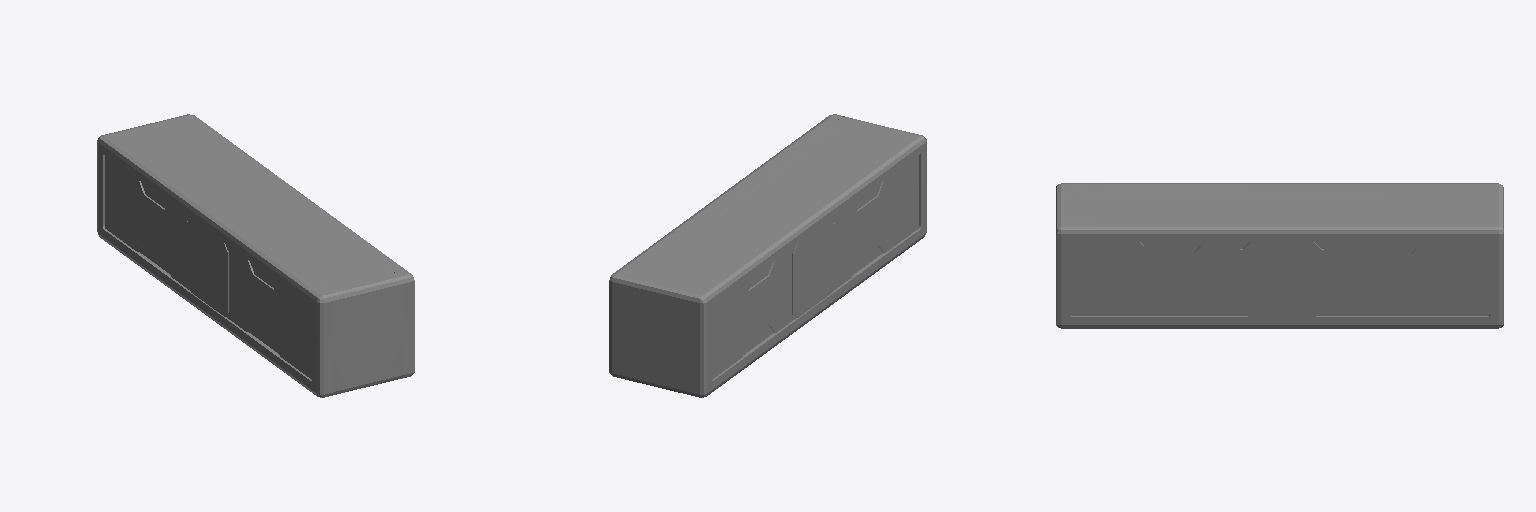
Rendered from cpz_obj_floor_8bx_M.obj.
3 views of the same model, side by side, from view 1: azimuth 30°, elevation 25°; view 2: azimuth 150°, elevation 25°; view 3: azimuth 270°, elevation 25° (orthographic).
Parts seen in each view (by area): view 1: cpz_metal_yy1_ylwflor_Cmn_dpn, ccp_metal_yy_floor2_Lumi_dpnE, ccp_metal_yy_gray02_Lumin_dpnE, cpz_yy1_road_cmn_dp, cpz_metal_yy_slop_cmn_dpn, cpz_metal_tn1_wirenet_001; view 2: cpz_metal_yy1_ylwflor_Cmn_dpn, ccp_metal_yy_floor2_Lumi_dpnE, ccp_metal_yy_gray02_Lumin_dpnE, cpz_yy1_road_cmn_dp, cpz_metal_yy_slop_cmn_dpn, cpz_metal_tn1_wirenet_001; view 3: cpz_metal_yy1_ylwflor_Cmn_dpn, ccp_metal_yy_gray02_Lumin_dpnE, ccp_metal_yy_floor2_Lumi_dpnE, cpz_metal_yy_slop_cmn_dpn, cpz_yy1_road_cmn_dp, cpz_metal_tn1_wirenet_001.
Boxes of the visible parts, x1,y1,x2,y2 form: cpz_metal_yy1_ylwflor_Cmn_dpn: [97, 116, 414, 394]; ccp_metal_yy_floor2_Lumi_dpnE: [129, 123, 391, 380]; ccp_metal_yy_gray02_Lumin_dpnE: [105, 156, 311, 376]; cpz_yy1_road_cmn_dp: [117, 120, 402, 382]; cpz_metal_yy_slop_cmn_dpn: [97, 114, 414, 397]; cpz_metal_tn1_wirenet_001: [140, 182, 394, 353]; cpz_metal_yy1_ylwflor_Cmn_dpn: [609, 117, 926, 394]; ccp_metal_yy_floor2_Lumi_dpnE: [632, 123, 894, 380]; ccp_metal_yy_gray02_Lumin_dpnE: [712, 156, 918, 376]; cpz_yy1_road_cmn_dp: [621, 121, 905, 383]; cpz_metal_yy_slop_cmn_dpn: [609, 114, 926, 397]; cpz_metal_tn1_wirenet_001: [744, 184, 882, 354]; cpz_metal_yy1_ylwflor_Cmn_dpn: [1056, 183, 1503, 328]; ccp_metal_yy_gray02_Lumin_dpnE: [1070, 244, 1489, 313]; ccp_metal_yy_floor2_Lumi_dpnE: [1072, 194, 1488, 216]; cpz_metal_yy_slop_cmn_dpn: [1056, 183, 1503, 328]; cpz_yy1_road_cmn_dp: [1072, 188, 1488, 221]; cpz_metal_tn1_wirenet_001: [1140, 242, 1422, 315].
Size of the model in its own units: 72.06 by 72.03 by 288.